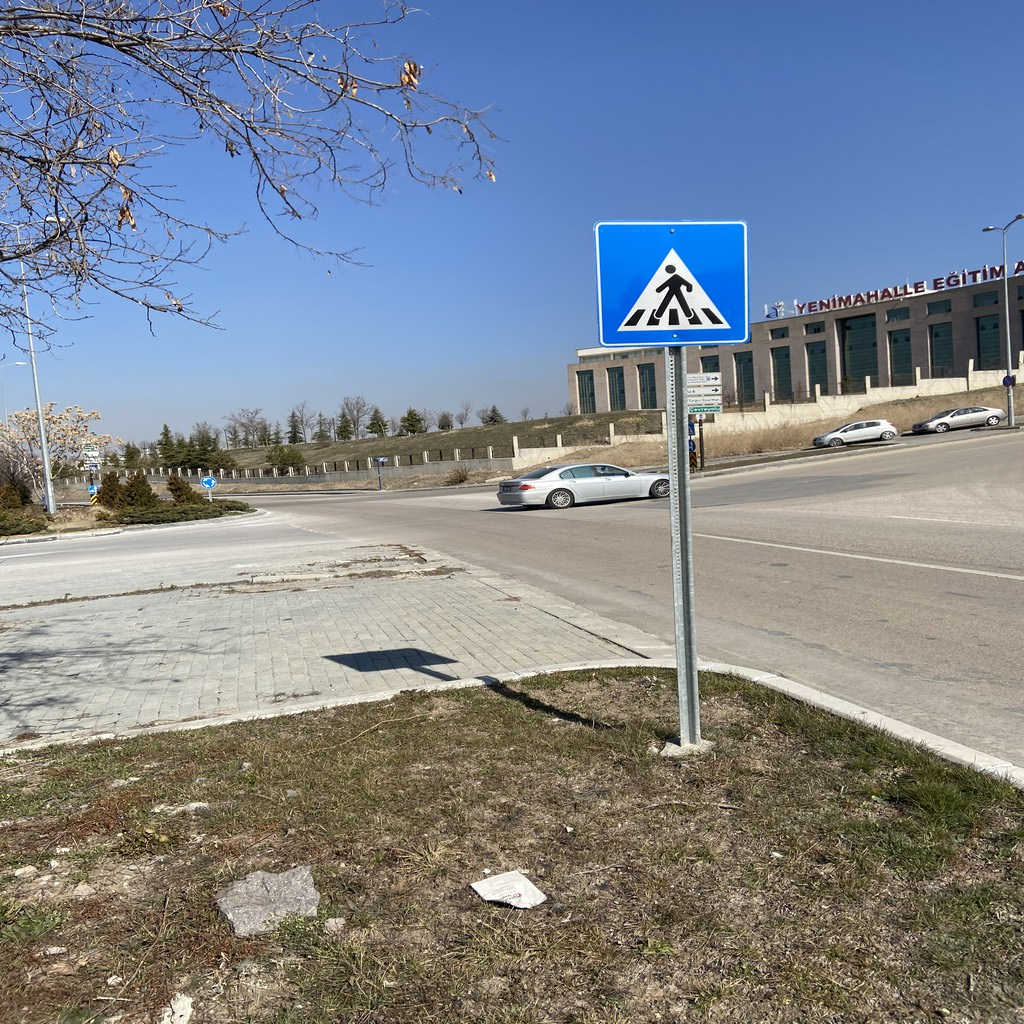Yaya Gecidi: (599, 222, 747, 344)
